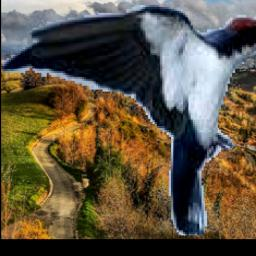Swallow: (2, 3, 256, 235)
